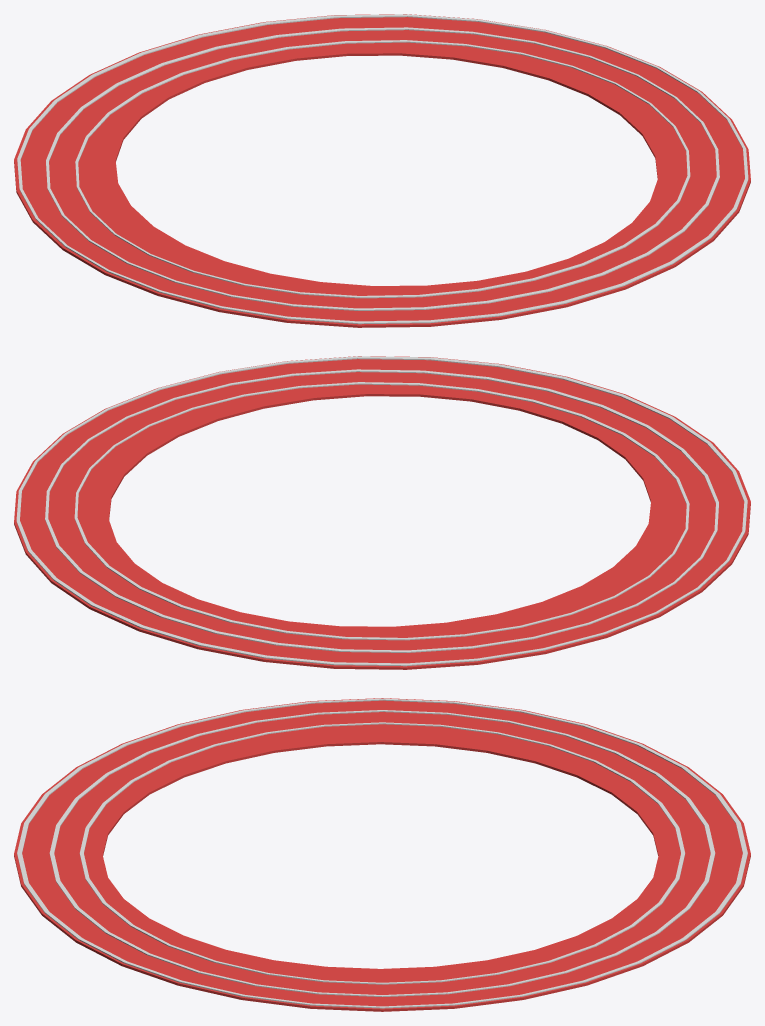
File: RunningThing.fbx
The picture shows the model from 3 angles, top to bottom: view 1: azimuth 30°, elevation 25°; view 2: azimuth 150°, elevation 25°; view 3: azimuth 270°, elevation 25°; orthographic projection.
Visible parts, largest first — view 1: Cylinder, Cylinder.002, Cylinder.001, Cylinder.003; view 2: Cylinder, Cylinder.002, Cylinder.001, Cylinder.003; view 3: Cylinder, Cylinder.002, Cylinder.001, Cylinder.003.
Boxes of the visible parts, <box> form: Cylinder: <box>14,14,750,327</box>; Cylinder.002: <box>17,14,748,324</box>; Cylinder.001: <box>46,27,719,310</box>; Cylinder.003: <box>75,40,690,298</box>; Cylinder: <box>14,356,750,669</box>; Cylinder.002: <box>16,356,747,666</box>; Cylinder.001: <box>45,369,718,652</box>; Cylinder.003: <box>74,382,689,640</box>; Cylinder: <box>14,698,750,1011</box>; Cylinder.002: <box>17,698,747,1008</box>; Cylinder.001: <box>49,710,715,996</box>; Cylinder.003: <box>79,722,685,984</box>.
Bounding box in the file's own units: 200 × 0.9774 × 200.
